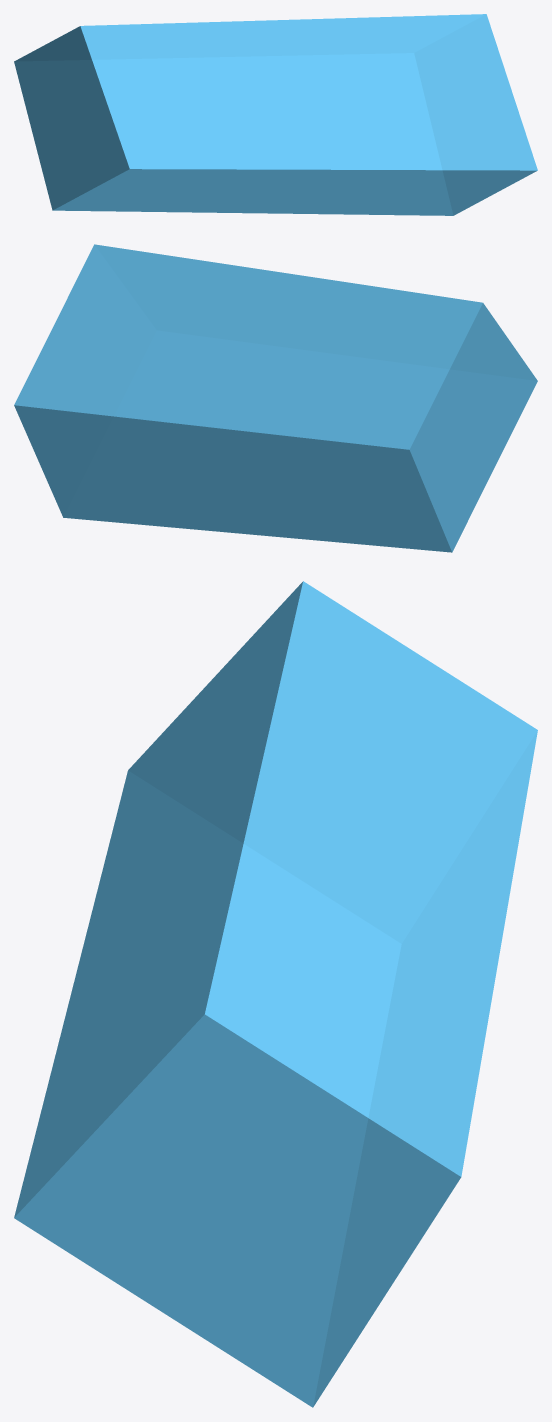
Rendered from Event_420107950_HErechit_20.fbx.
3 views of the same model, one above another, from view 1: azimuth 30°, elevation 25°; view 2: azimuth 150°, elevation 25°; view 3: azimuth 270°, elevation 25° (orthographic). The views are drawn at different scales.
Visible parts, largest first — view 1: Model; view 2: Model; view 3: Model.
Boxes of the visible parts, x1,y1,x2,y2 form: Model: (14,14,537,215); Model: (14,244,537,552); Model: (14,581,537,1407).
Size of the model in its own units: 0.9477 by 0.6789 by 0.6421.
